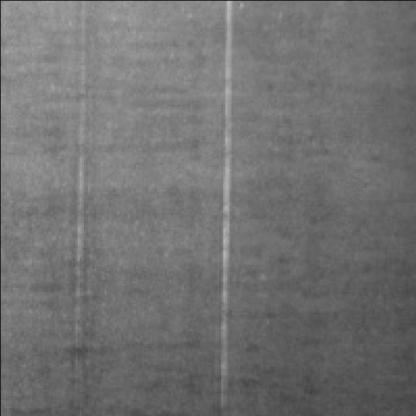scratches: (214, 4, 244, 410)
